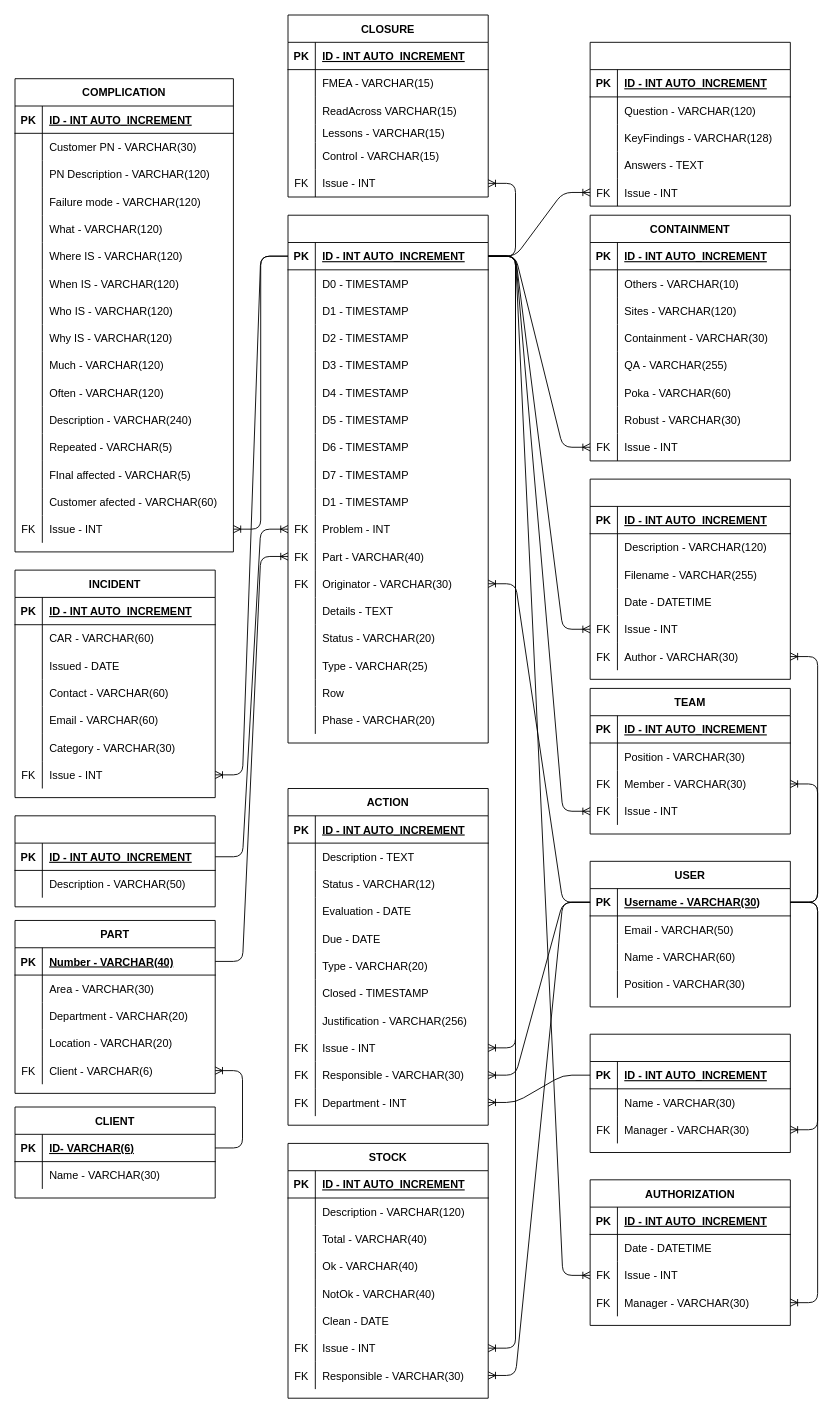
This 833x1413 diagram has some shape labels left out. The box of each missing label's shape, as (x1, y1, x2, y2) in pixels:
DEPARTMENT: (589, 1033, 790, 1153)
EVIDENCE: (589, 478, 790, 679)
ISSUE: (287, 214, 488, 743)
PROBLEM: (14, 815, 215, 907)
WHY: (589, 41, 790, 206)
